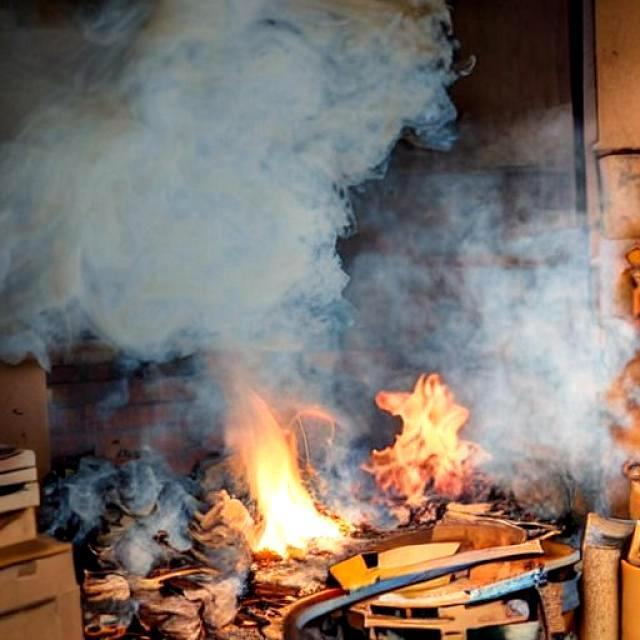Fire: (199, 382, 365, 584), (346, 376, 494, 538)
Smoke: (0, 0, 398, 362), (420, 152, 640, 460)
